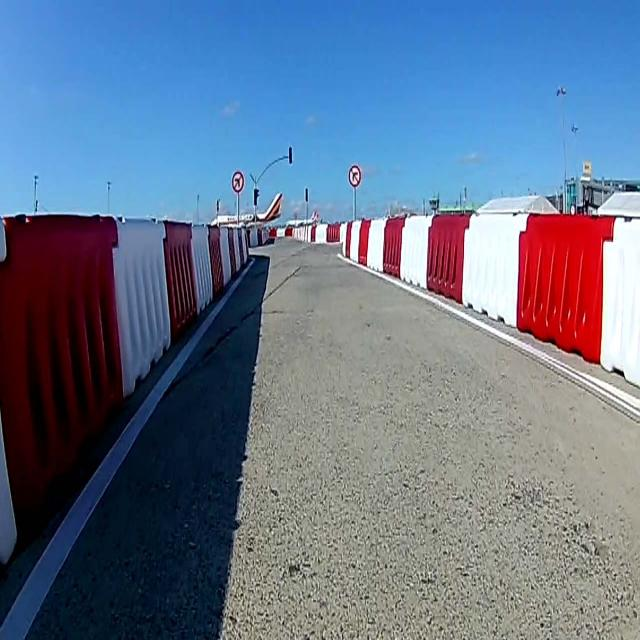sagadonulmez: (348, 164, 361, 187)
soladonulmez: (232, 171, 244, 193)
